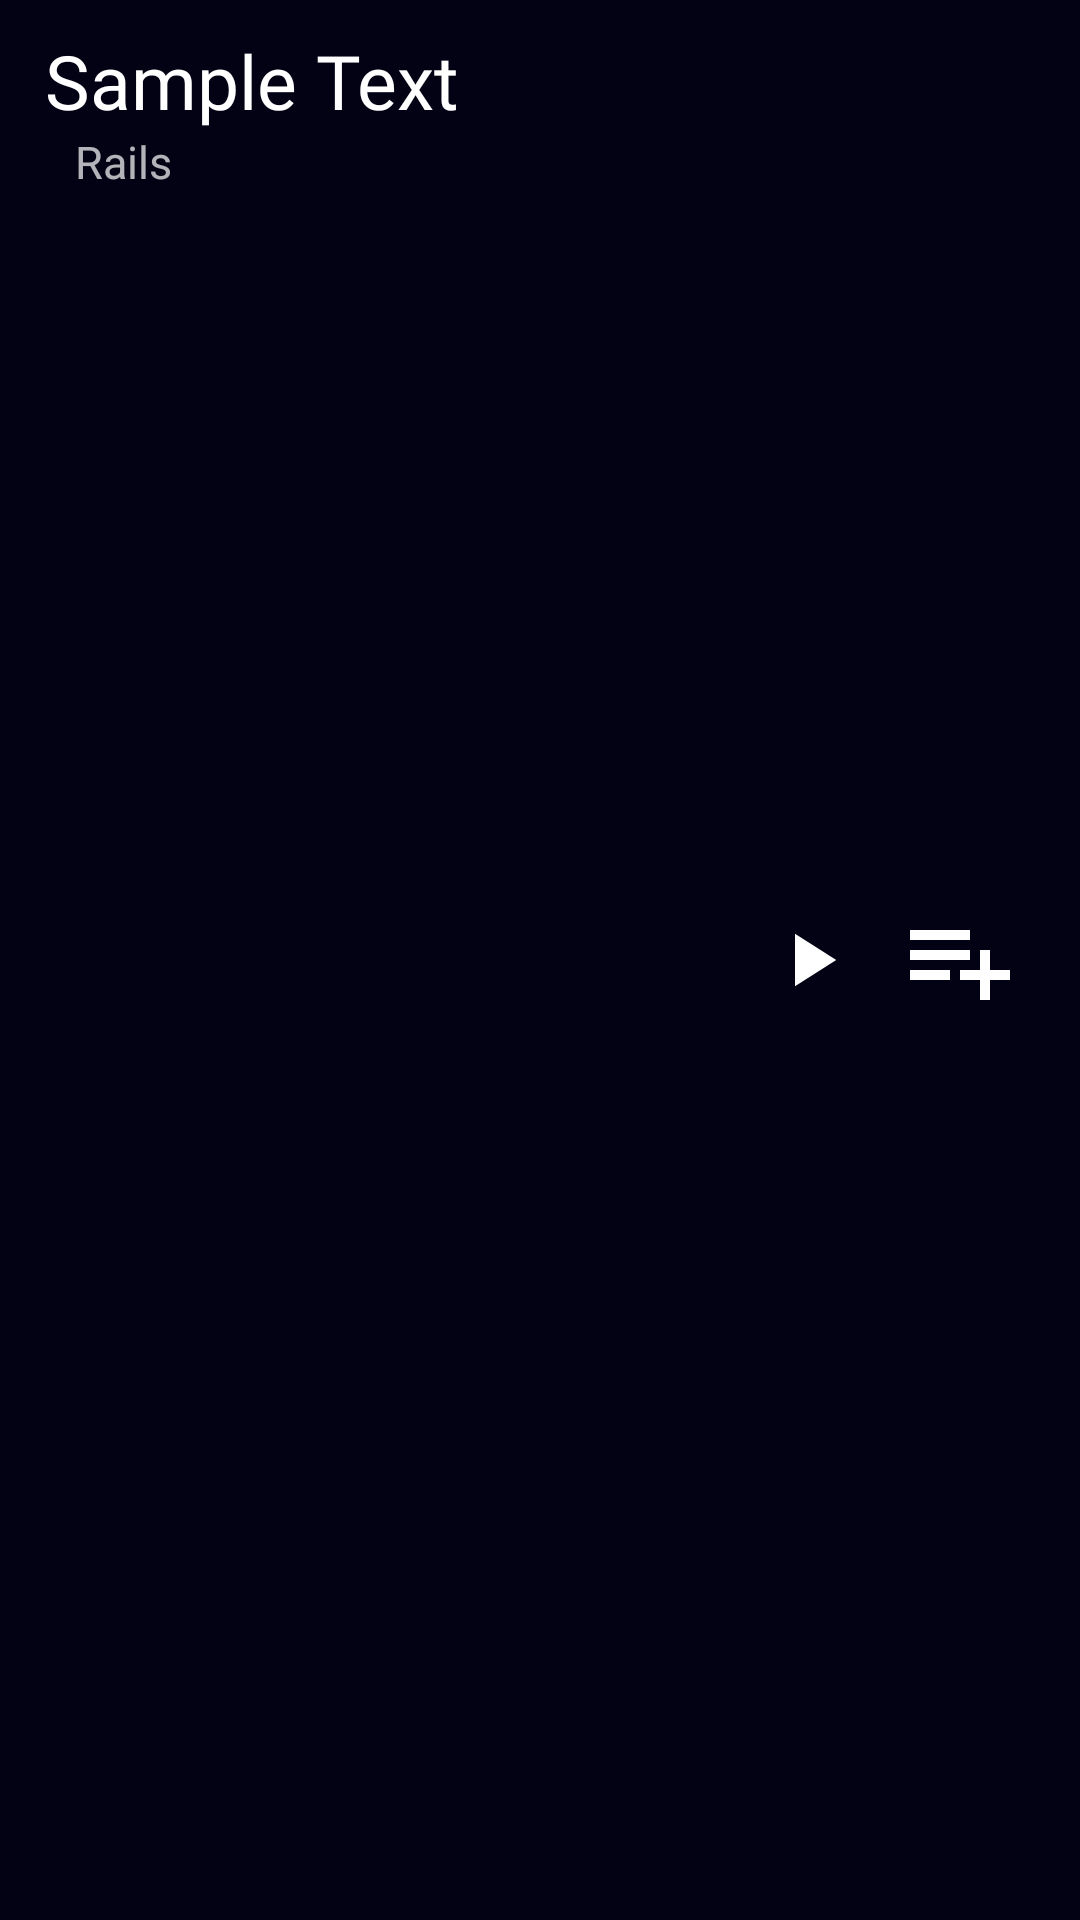

Icon click points for this 1080w x 1920h phone screenshot, format [x,y]:
play arrow: [815,960]
playlist add: [960,965]
